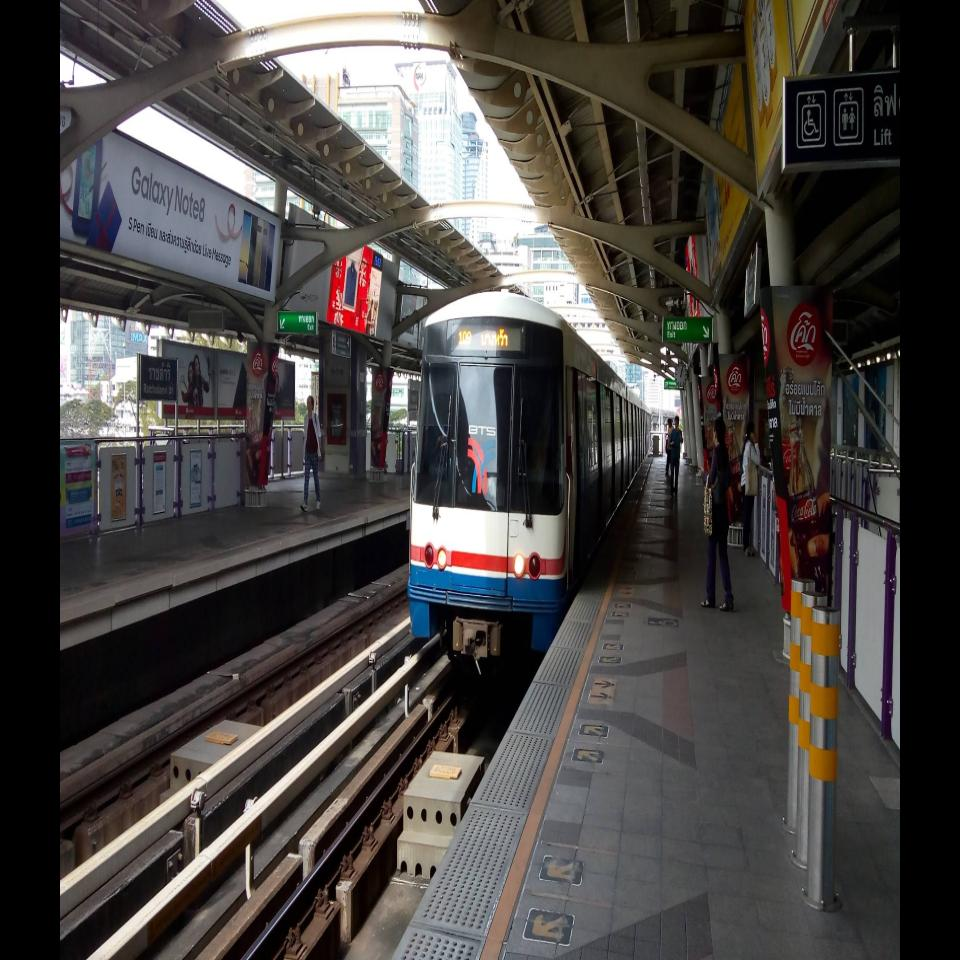signage: (139, 353, 178, 404)
